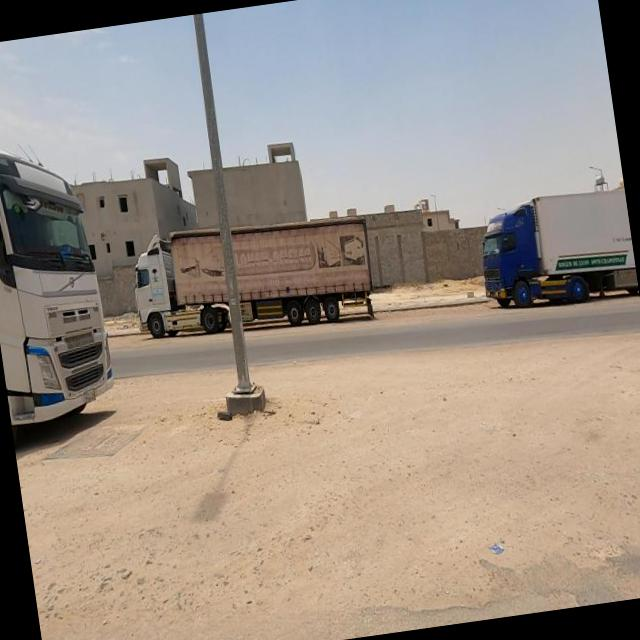debris: (466, 500, 531, 606), (184, 374, 263, 454)
